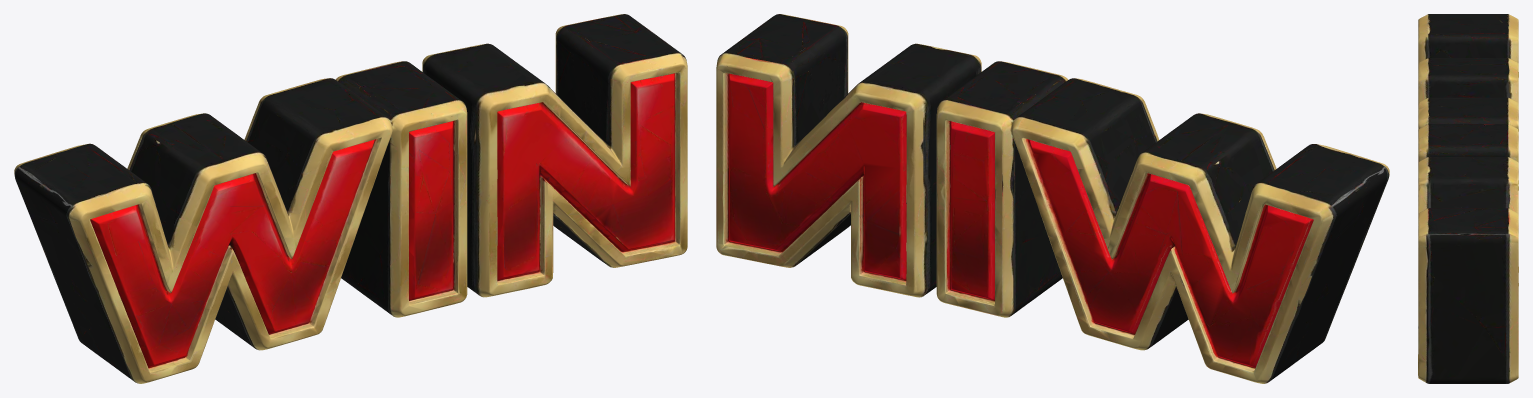
The model's file is win.glb.
The picture shows the model from 3 angles, left to right: view 1: azimuth 30°, elevation 25°; view 2: azimuth 150°, elevation 25°; view 3: azimuth 270°, elevation 25°; orthographic projection. The views are drawn at different scales.
Bounding box in the file's own units: 1.89 × 0.6141 × 0.3553.
1 material, 1 textured.
